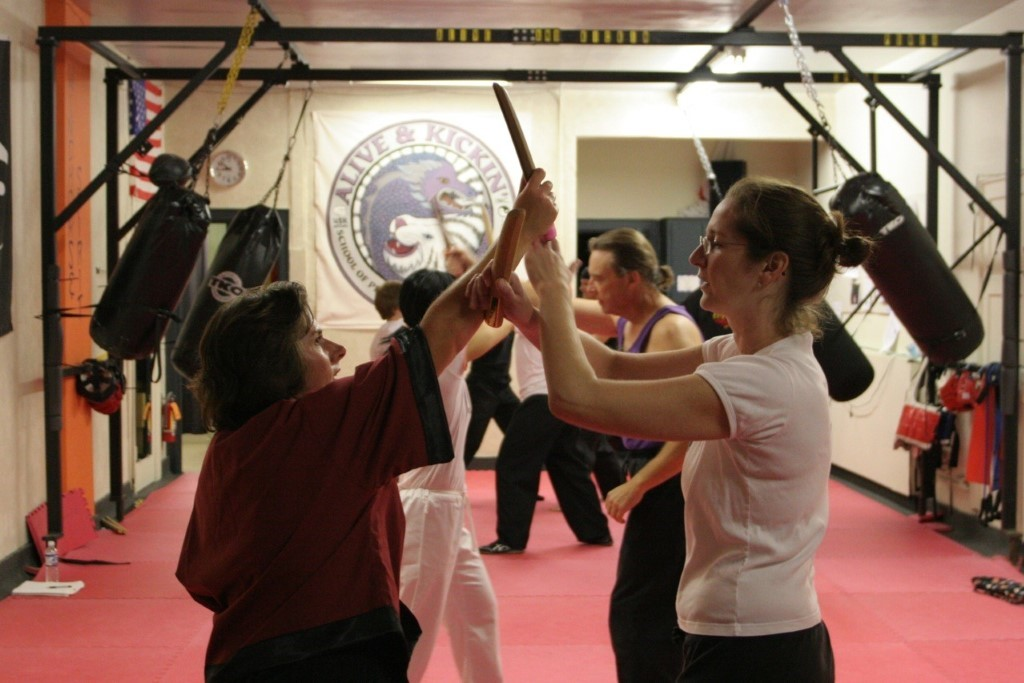baston_e: (481, 216, 527, 315), (492, 90, 540, 172)
baston_v: (478, 309, 503, 333), (485, 76, 512, 98), (501, 201, 530, 220)
